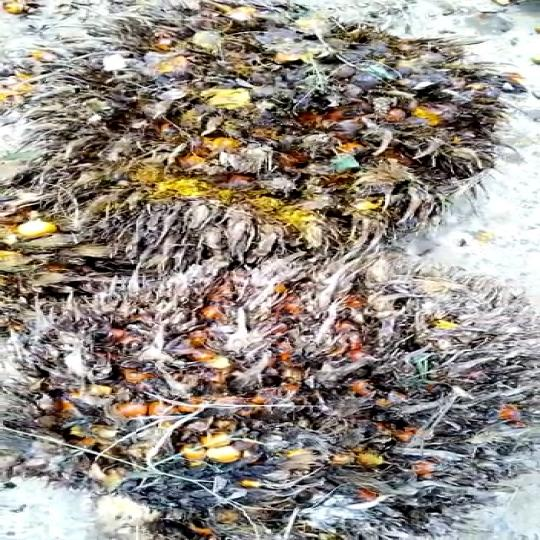terlalu masak: (0, 249, 527, 540), (2, 0, 535, 265)
